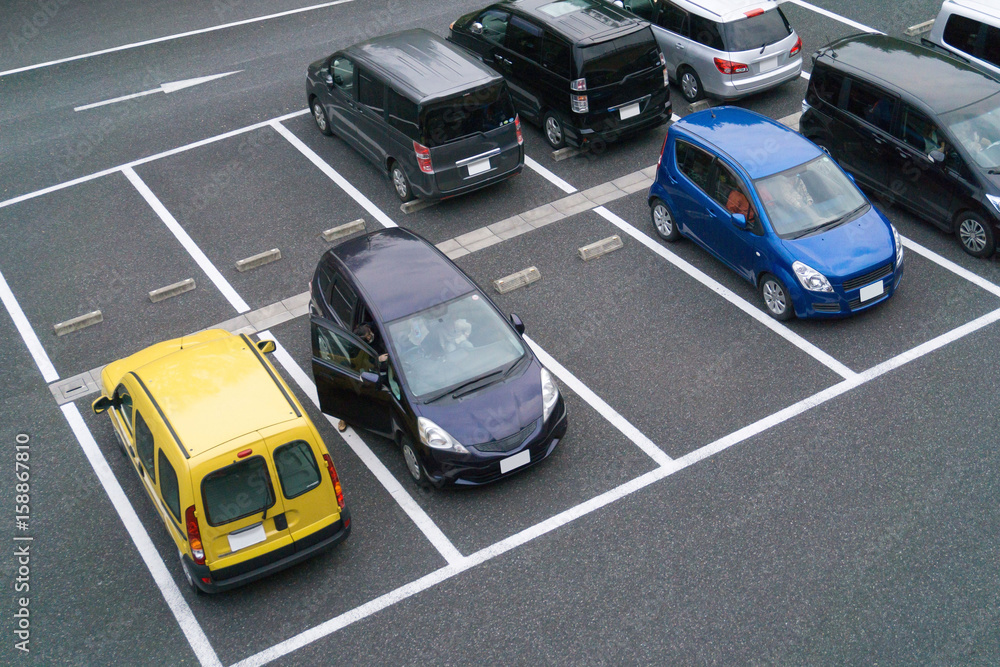bos: (301, 234, 647, 637), (59, 331, 457, 667), (635, 117, 998, 367), (277, 30, 579, 212)
dolu: (508, 230, 846, 460), (126, 123, 376, 324), (1, 162, 252, 359)
